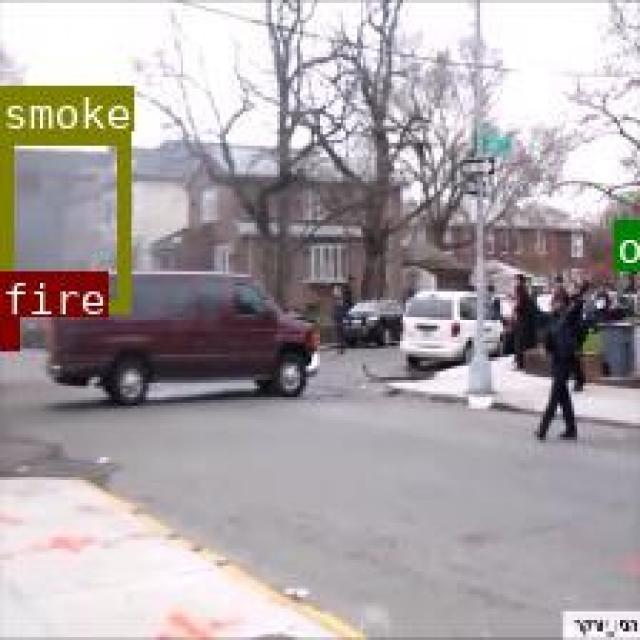fire: (0, 316, 17, 347)
smoke: (0, 132, 129, 312)
